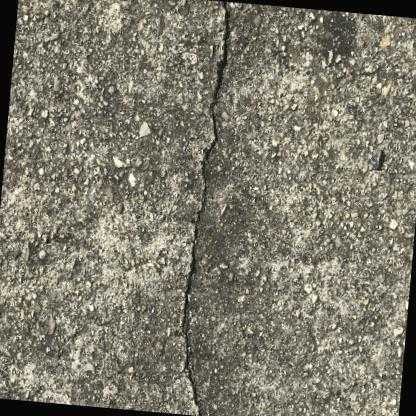crack: (178, 9, 230, 416)
